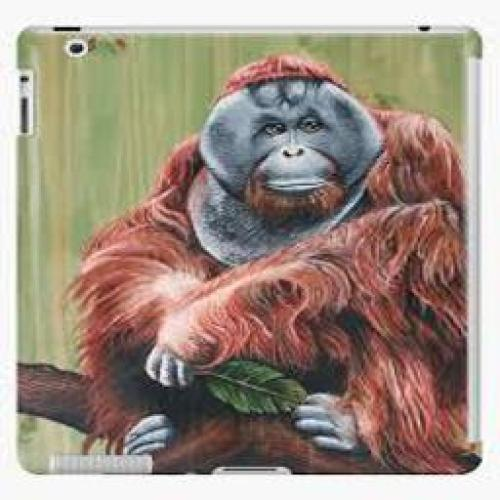orangutan-endangered: (82, 57, 467, 468)
